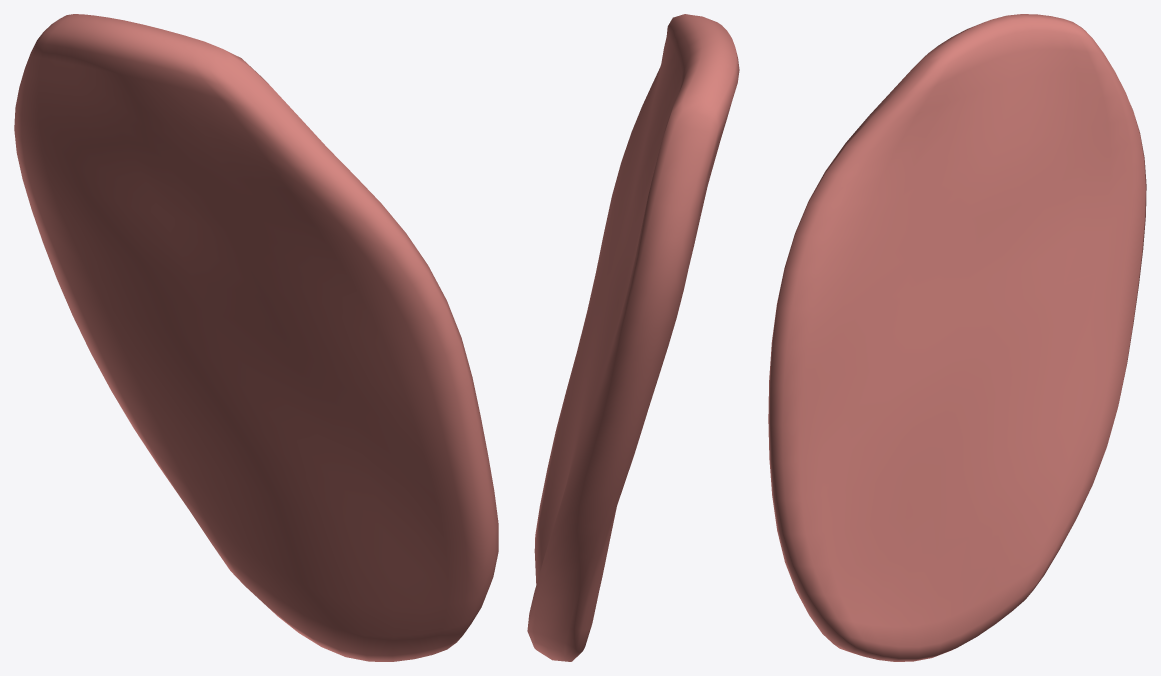
3 views of the same model, side by side, from view 1: azimuth 30°, elevation 25°; view 2: azimuth 150°, elevation 25°; view 3: azimuth 270°, elevation 25° (orthographic). The views are drawn at different scales.
Parts seen in each view (by area): view 1: ZA_0d8753faebf21535; view 2: ZA_0d8753faebf21535; view 3: ZA_0d8753faebf21535.
Part boxes in pixels (x1,y1,x2,y2): ZA_0d8753faebf21535: [14, 14, 498, 661]; ZA_0d8753faebf21535: [527, 14, 739, 661]; ZA_0d8753faebf21535: [768, 14, 1146, 661].
Size of the model in its own units: 0.0139 by 0.0281 by 0.0172.
